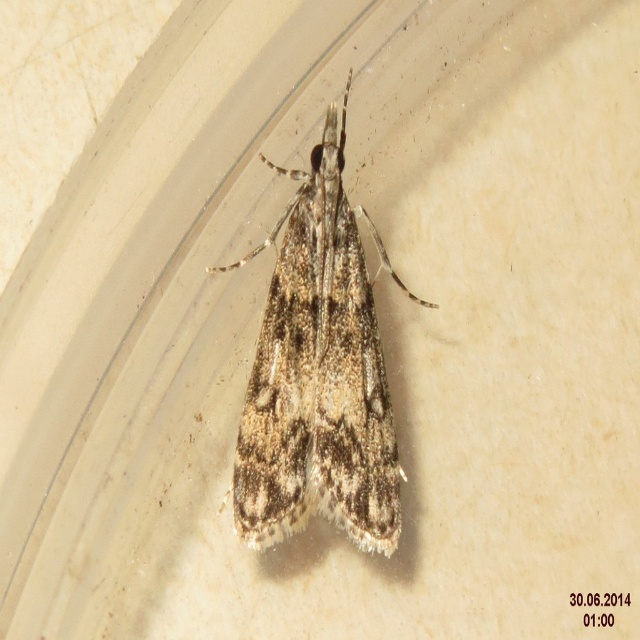Moths and butterflies: (207, 61, 439, 566)
